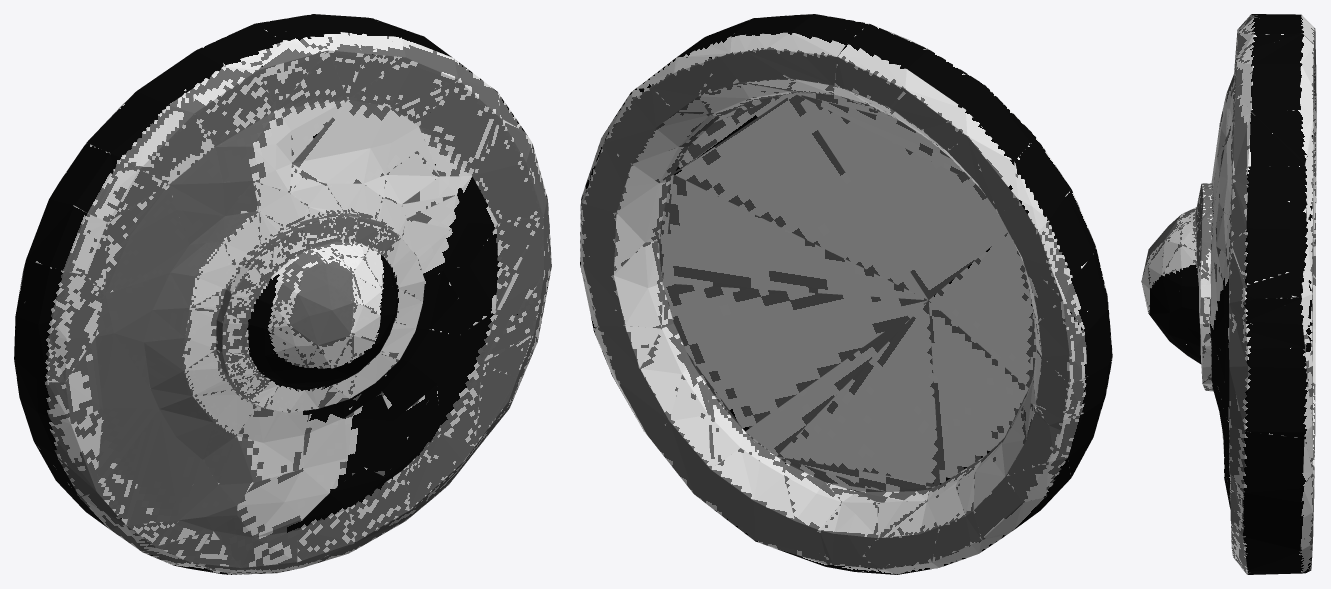
3 views of the same model, side by side, from view 1: azimuth 30°, elevation 25°; view 2: azimuth 150°, elevation 25°; view 3: azimuth 270°, elevation 25° (orthographic). The views are drawn at different scales.
Parts seen in each view (by area): view 1: OBJ03d; view 2: OBJ03d; view 3: OBJ03d.
Boxes of the visible parts, x1,y1,x2,y2 form: OBJ03d: (14,14,551,574); OBJ03d: (580,14,1112,574); OBJ03d: (1141,14,1316,574).
Size of the model in its own units: 0.3201 by 0.3199 by 0.0999.
1 material, 1 textured.
